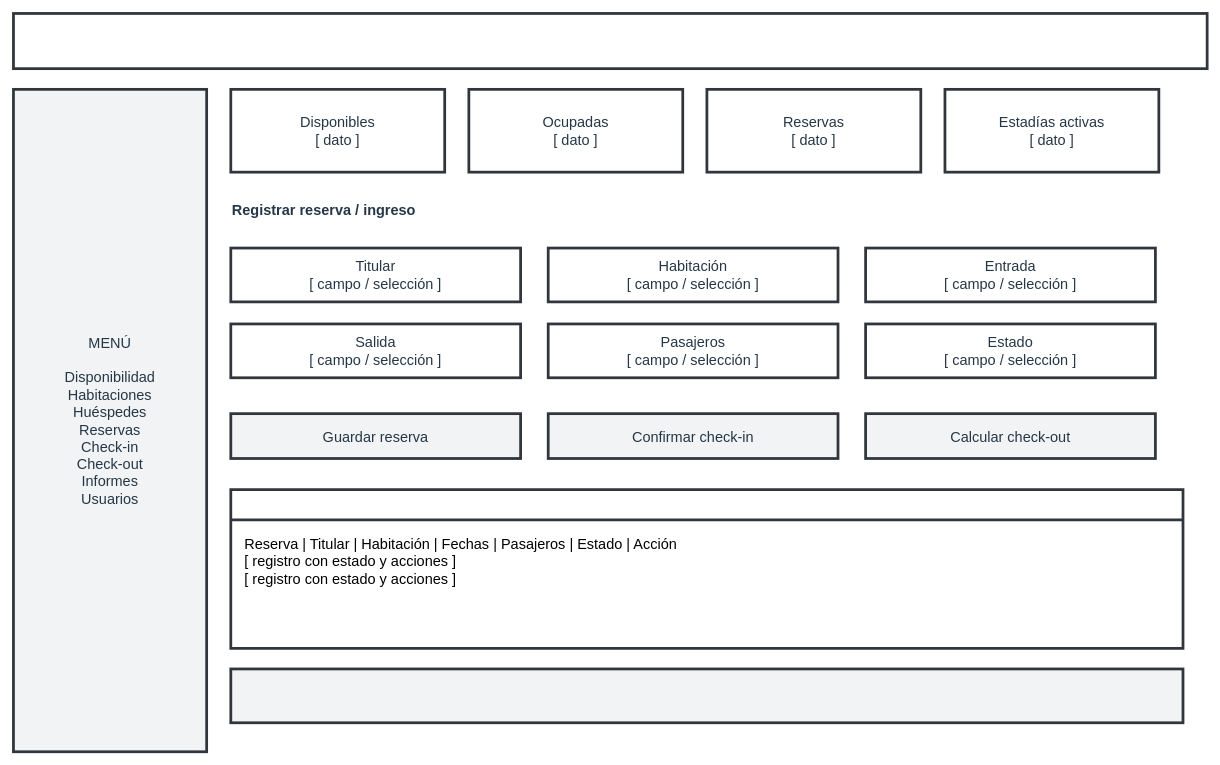
Some shapes in this 1220 by 765 pixel diagram are drawn without their labels. The shapes that lost their labels are listed below. From the top down, each one's box as (x1, y1, x2, y2) in pixels, then its label:
(12, 12, 1208, 70): Hotel Duerme Bien · Sistema de pasajeros
(229, 488, 1184, 649): Reservas y estadías
(229, 667, 1184, 724): Cuenta seleccionada: 2 pasajeros · 2 noches · Total $40.000 CLP
